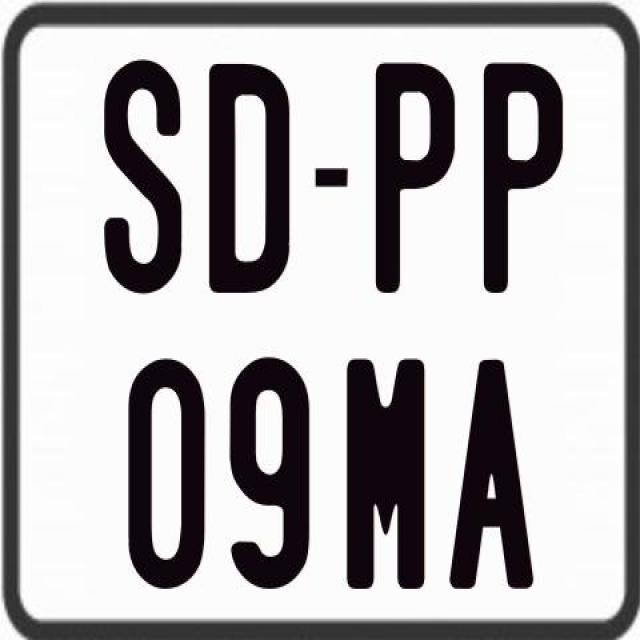0: (127, 358, 210, 596)
9: (225, 354, 308, 594)
A: (446, 360, 530, 589)
D: (205, 59, 291, 290)
M: (346, 358, 426, 596)
P: (481, 61, 567, 292), (373, 62, 455, 302)
S: (100, 54, 186, 293)
